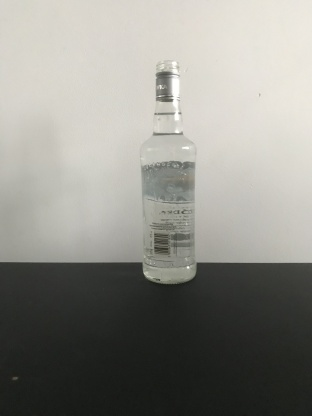nakretka: (153, 57, 181, 102)
